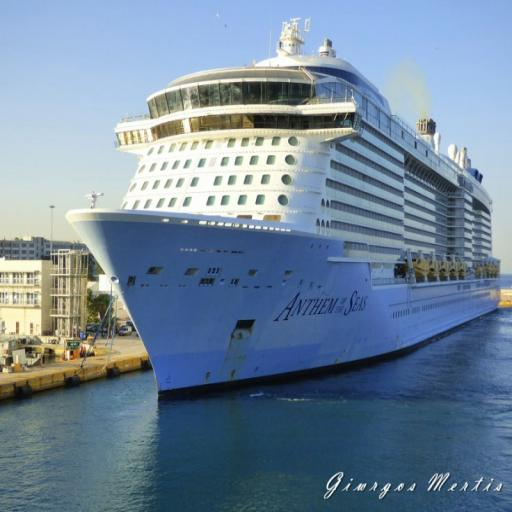cruises: (62, 17, 512, 411)
